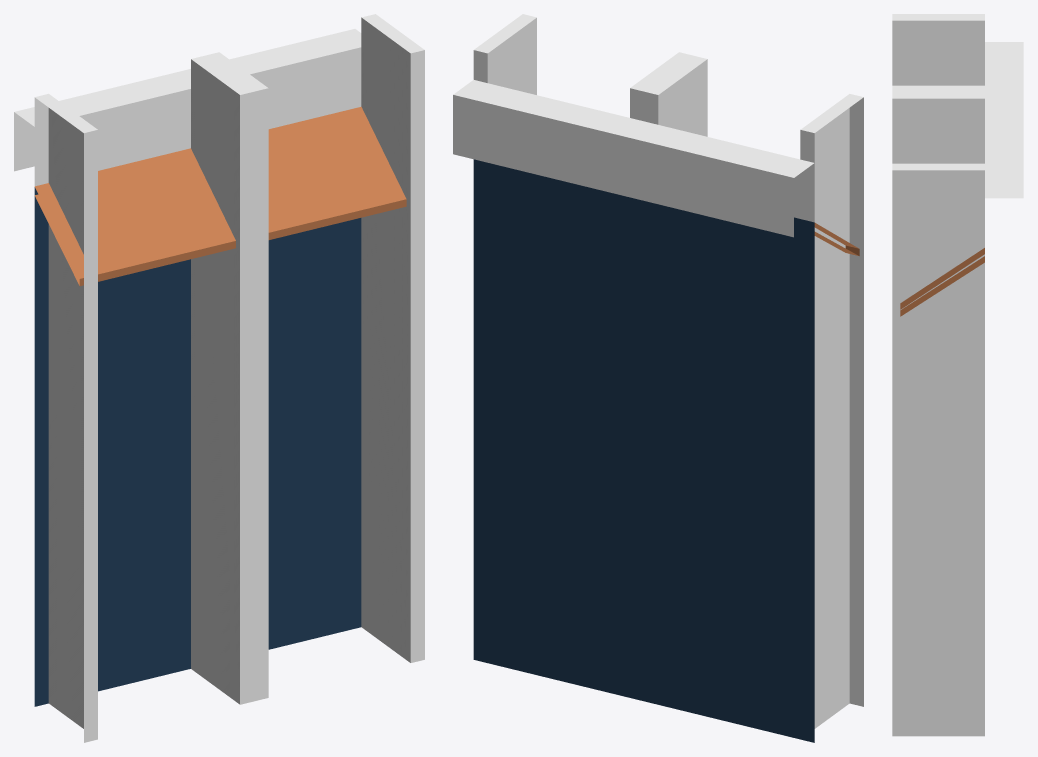
The model's file is top-w1.fbx.
3 views of the same model, side by side, from view 1: azimuth 30°, elevation 25°; view 2: azimuth 150°, elevation 25°; view 3: azimuth 270°, elevation 25° (orthographic). The views are drawn at different scales.
Visible parts, largest first — view 1: a2002/600/top-w1; view 2: a2002/600/top-w1; view 3: a2002/600/top-w1.
Part boxes in pixels (x1,y1,x2,y2): a2002/600/top-w1: (14,14,424,742); a2002/600/top-w1: (453,14,863,742); a2002/600/top-w1: (892,14,1023,736).
Size of the model in its own units: 2.4 by 4.1 by 0.85.
